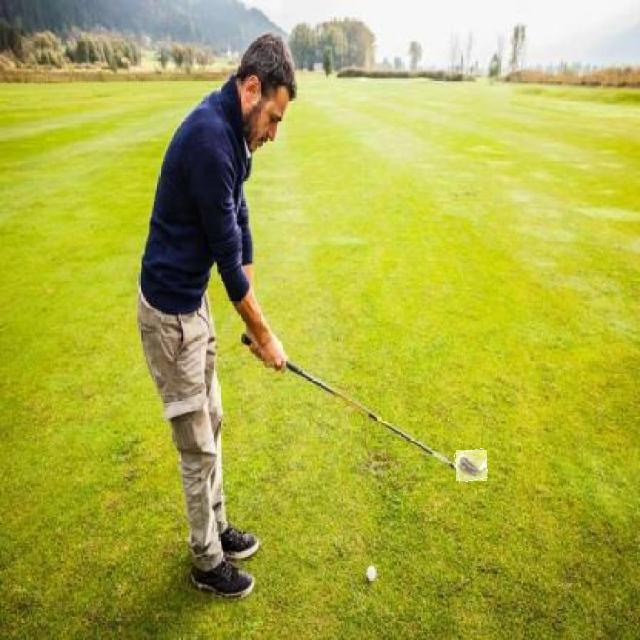club head: (456, 450, 487, 481)
